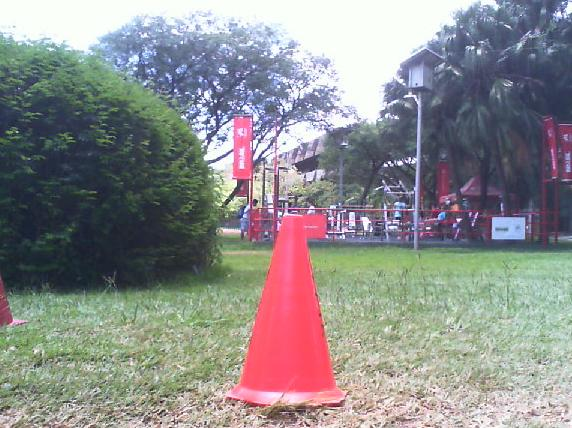0 cone: (224, 215, 346, 406), (0, 213, 27, 334)
